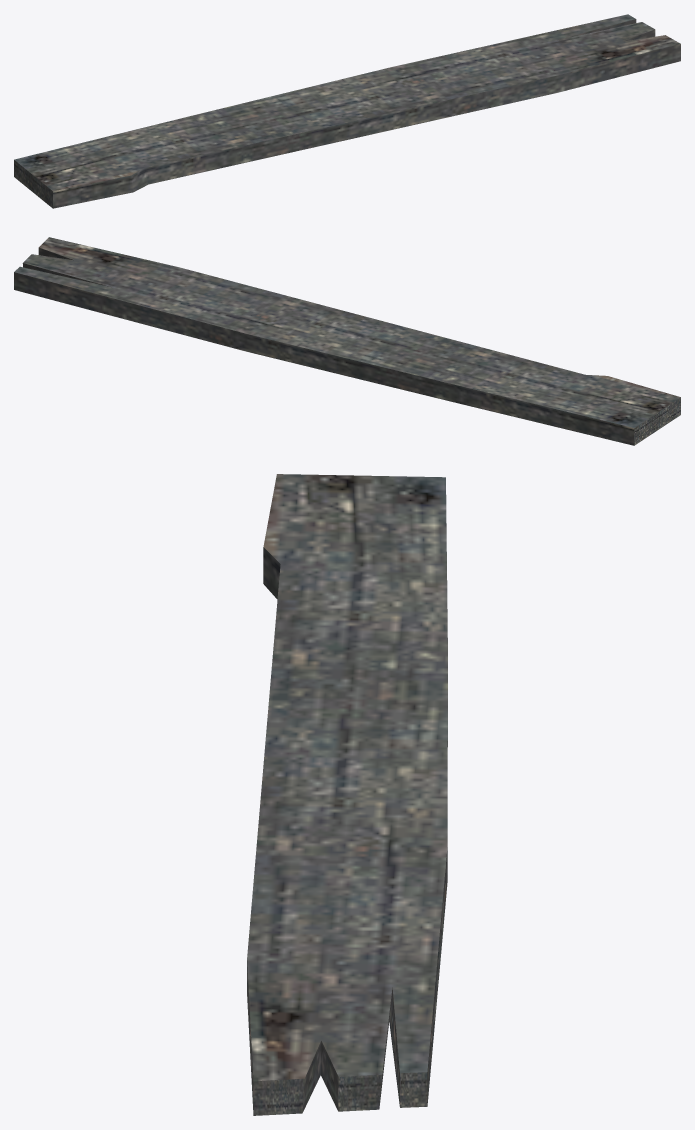
File: board_2m_var3.fbx
The picture shows the model from 3 angles, top to bottom: view 1: azimuth 30°, elevation 25°; view 2: azimuth 150°, elevation 25°; view 3: azimuth 270°, elevation 25°; orthographic projection. The views are drawn at different scales.
Parts seen in each view (by area): view 1: mesh_0; view 2: mesh_0; view 3: mesh_0.
Boxes of the visible parts, x1,y1,x2,y2 form: mesh_0: (14, 14, 680, 208); mesh_0: (14, 237, 680, 445); mesh_0: (247, 474, 447, 1115).
Size of the model in its own units: 199 by 5.3 by 27.84.
1 material, 1 textured.
